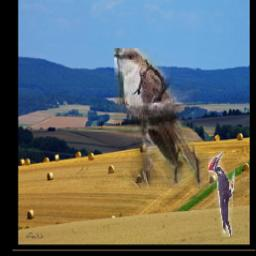Cuckoo: (114, 49, 215, 190)
Woodpecker: (207, 151, 234, 237)
